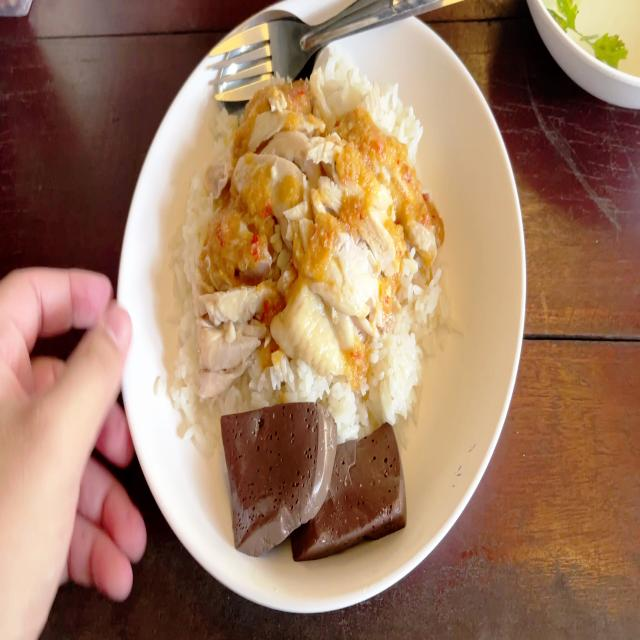boiled_chicken: (207, 85, 409, 381)
boiled_chicken_blood_jelly: (214, 387, 334, 538), (298, 422, 402, 559)
chicken_rice: (172, 52, 462, 551)
